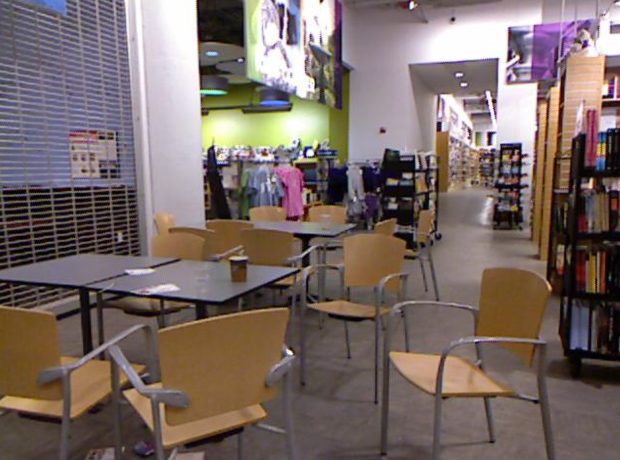cabinet: (391, 156, 439, 208)
chair: (384, 268, 556, 456), (108, 305, 291, 460), (301, 234, 406, 387), (0, 307, 72, 460), (242, 228, 299, 266), (150, 233, 204, 260), (409, 209, 434, 265), (309, 207, 346, 220), (250, 207, 287, 219), (154, 214, 171, 230)
table: (1, 251, 299, 301), (256, 222, 356, 231)
window: (0, 0, 142, 236)
